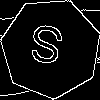S: (26, 23, 66, 75)
